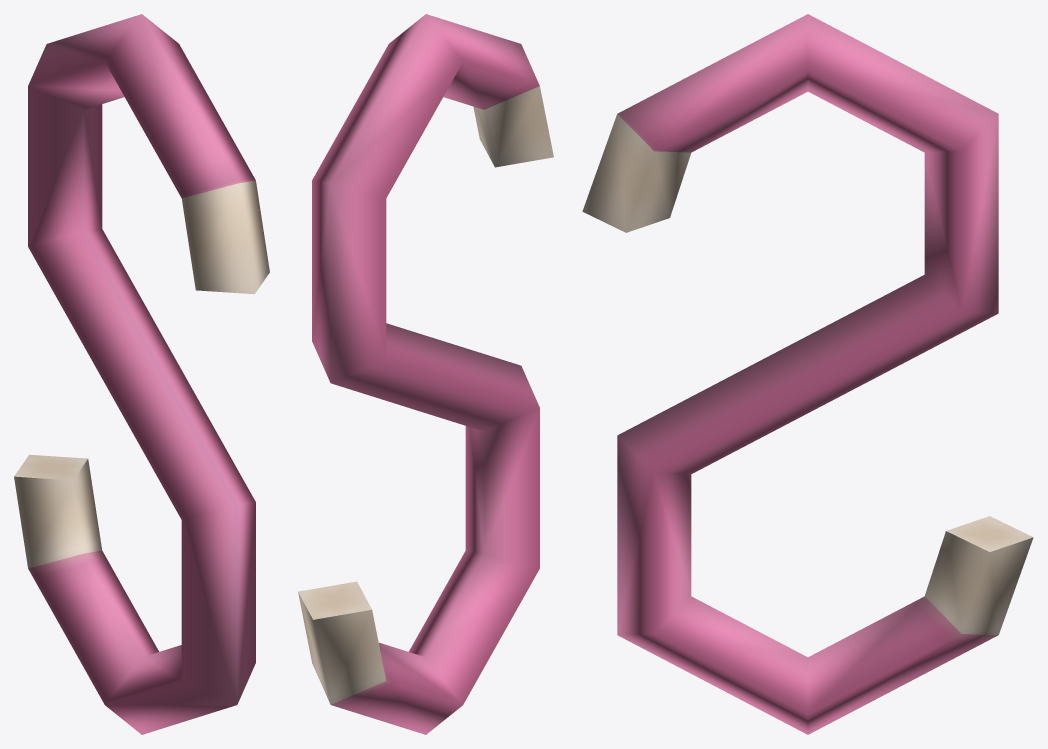
File: jsf_Hook_03.fbx
3 renders of one model, left to right at view 1: azimuth 30°, elevation 25°; view 2: azimuth 150°, elevation 25°; view 3: azimuth 270°, elevation 25°, orthographic.
Visible parts, largest first — view 1: jsf_Hook_03; view 2: jsf_Hook_03; view 3: jsf_Hook_03.
Part boxes in pixels (x1,y1,x2,y2): jsf_Hook_03: (14, 14, 269, 734); jsf_Hook_03: (298, 14, 553, 734); jsf_Hook_03: (582, 14, 1033, 734).
Size of the model in its own units: 0.8753 by 8.13 by 4.61.
